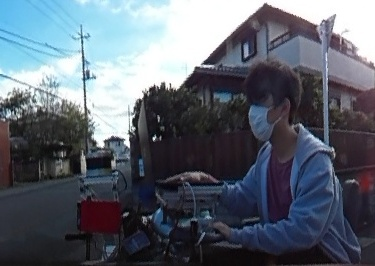person: (223, 59, 353, 266)
